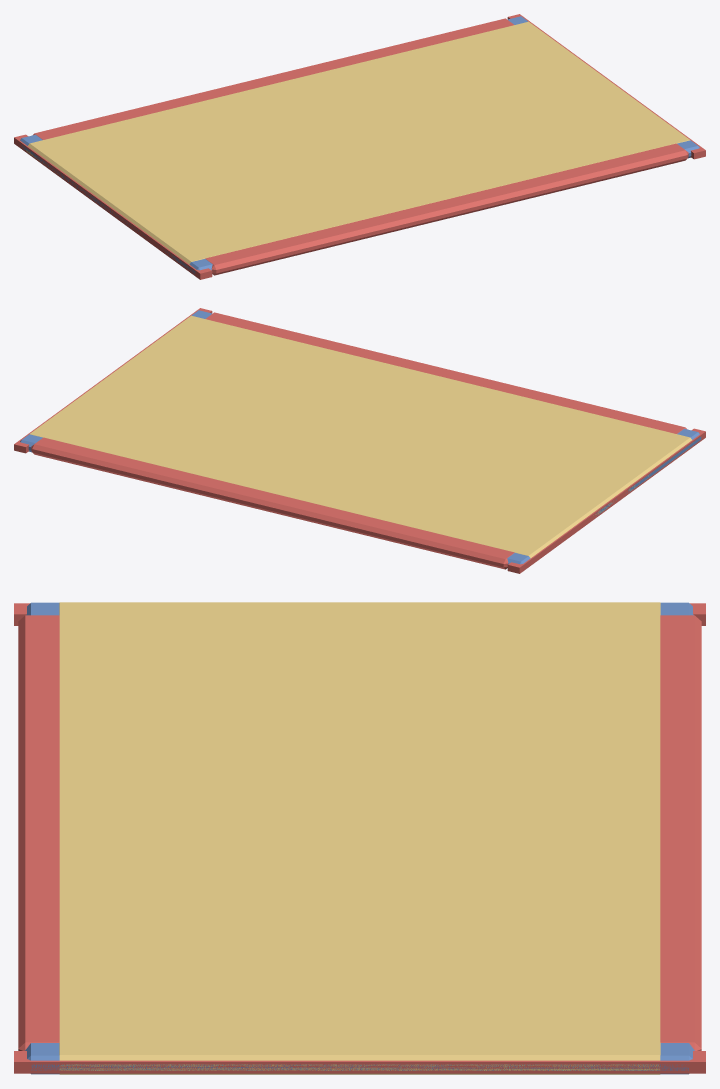
Rendered from rug.glb.
3 renders of one model, top to bottom at view 1: azimuth 30°, elevation 25°; view 2: azimuth 150°, elevation 25°; view 3: azimuth 270°, elevation 25°, orthographic. The views are drawn at different scales.
Parts seen in each view (by area): view 1: rug_2, rug_0, rug_1; view 2: rug_2, rug_0, rug_1; view 3: rug_2, rug_0, rug_1.
Part boxes in pixels (box(x1,y1,x2,y2)): rug_2: box(26, 21, 690, 266); rug_0: box(14, 14, 705, 279); rug_1: box(20, 16, 699, 274); rug_2: box(29, 315, 691, 558); rug_0: box(14, 308, 705, 573); rug_1: box(20, 310, 701, 564); rug_2: box(59, 602, 660, 1074); rug_0: box(14, 603, 705, 1073); rug_1: box(25, 602, 694, 1074).
Size of the model in its own units: 2 by 0.04 by 1.28.
